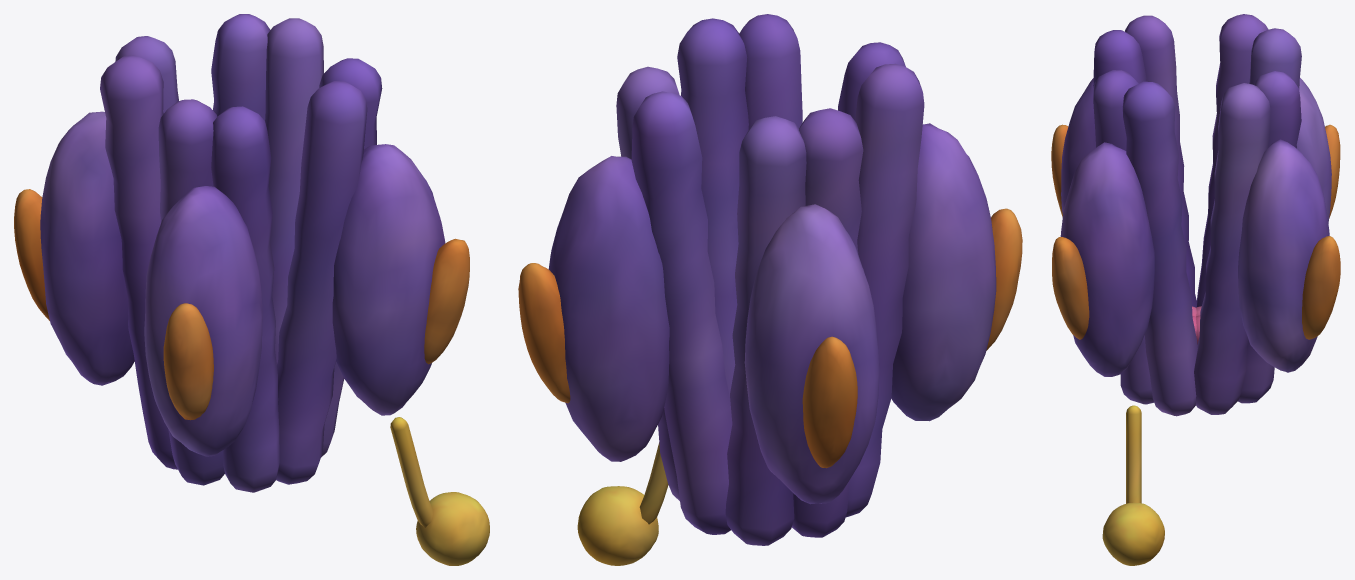
File: na-channel.glb
3 renders of one model, left to right at view 1: azimuth 30°, elevation 25°; view 2: azimuth 150°, elevation 25°; view 3: azimuth 270°, elevation 25°, orthographic. The views are drawn at different scales.
Visible parts, largest first — view 1: na-channel-domains, na-channel-paddles, na-channel-ball; view 2: na-channel-domains, na-channel-paddles, na-channel-ball; view 3: na-channel-domains, na-channel-paddles, na-channel-ball.
Boxes of the visible parts, <box> form: na-channel-domains: <box>40,14,445,492</box>; na-channel-paddles: <box>14,189,469,420</box>; na-channel-ball: <box>390,417,489,565</box>; na-channel-domains: <box>548,14,996,545</box>; na-channel-paddles: <box>518,208,1022,468</box>; na-channel-ball: <box>577,442,668,565</box>; na-channel-domains: <box>1060,14,1331,416</box>; na-channel-paddles: <box>1051,124,1340,339</box>; na-channel-ball: <box>1102,405,1164,565</box>.
Size of what is drawn, in the model's own units: 1.12 by 1.56 by 0.9302.
